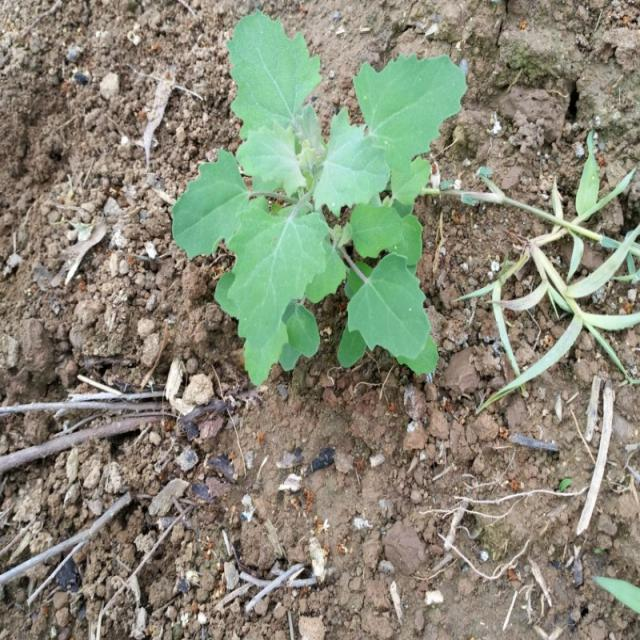ca: (173, 14, 469, 389)
